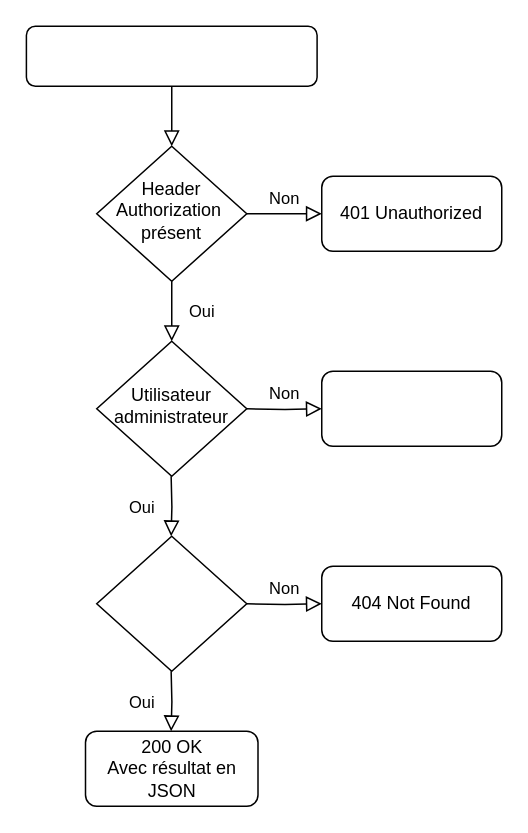
Some shapes in this 528 by 833 pixel diagram are drawn without their labels. The centre of each missing label's shape, as x and y in pixels:
"403 Forbidden" belongs at (x=411, y=408).
"GET api/v1/absences/{idAbsence}" belongs at (x=171, y=55).
"Vacance à récupérer existante" belongs at (x=171, y=603).
